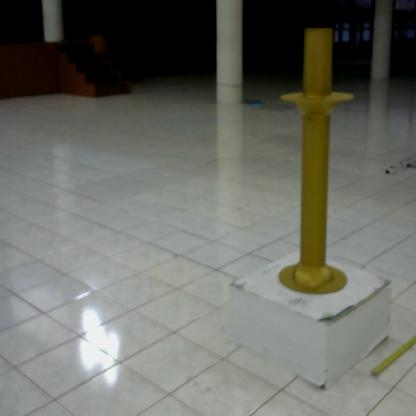pole: (275, 22, 359, 301)
